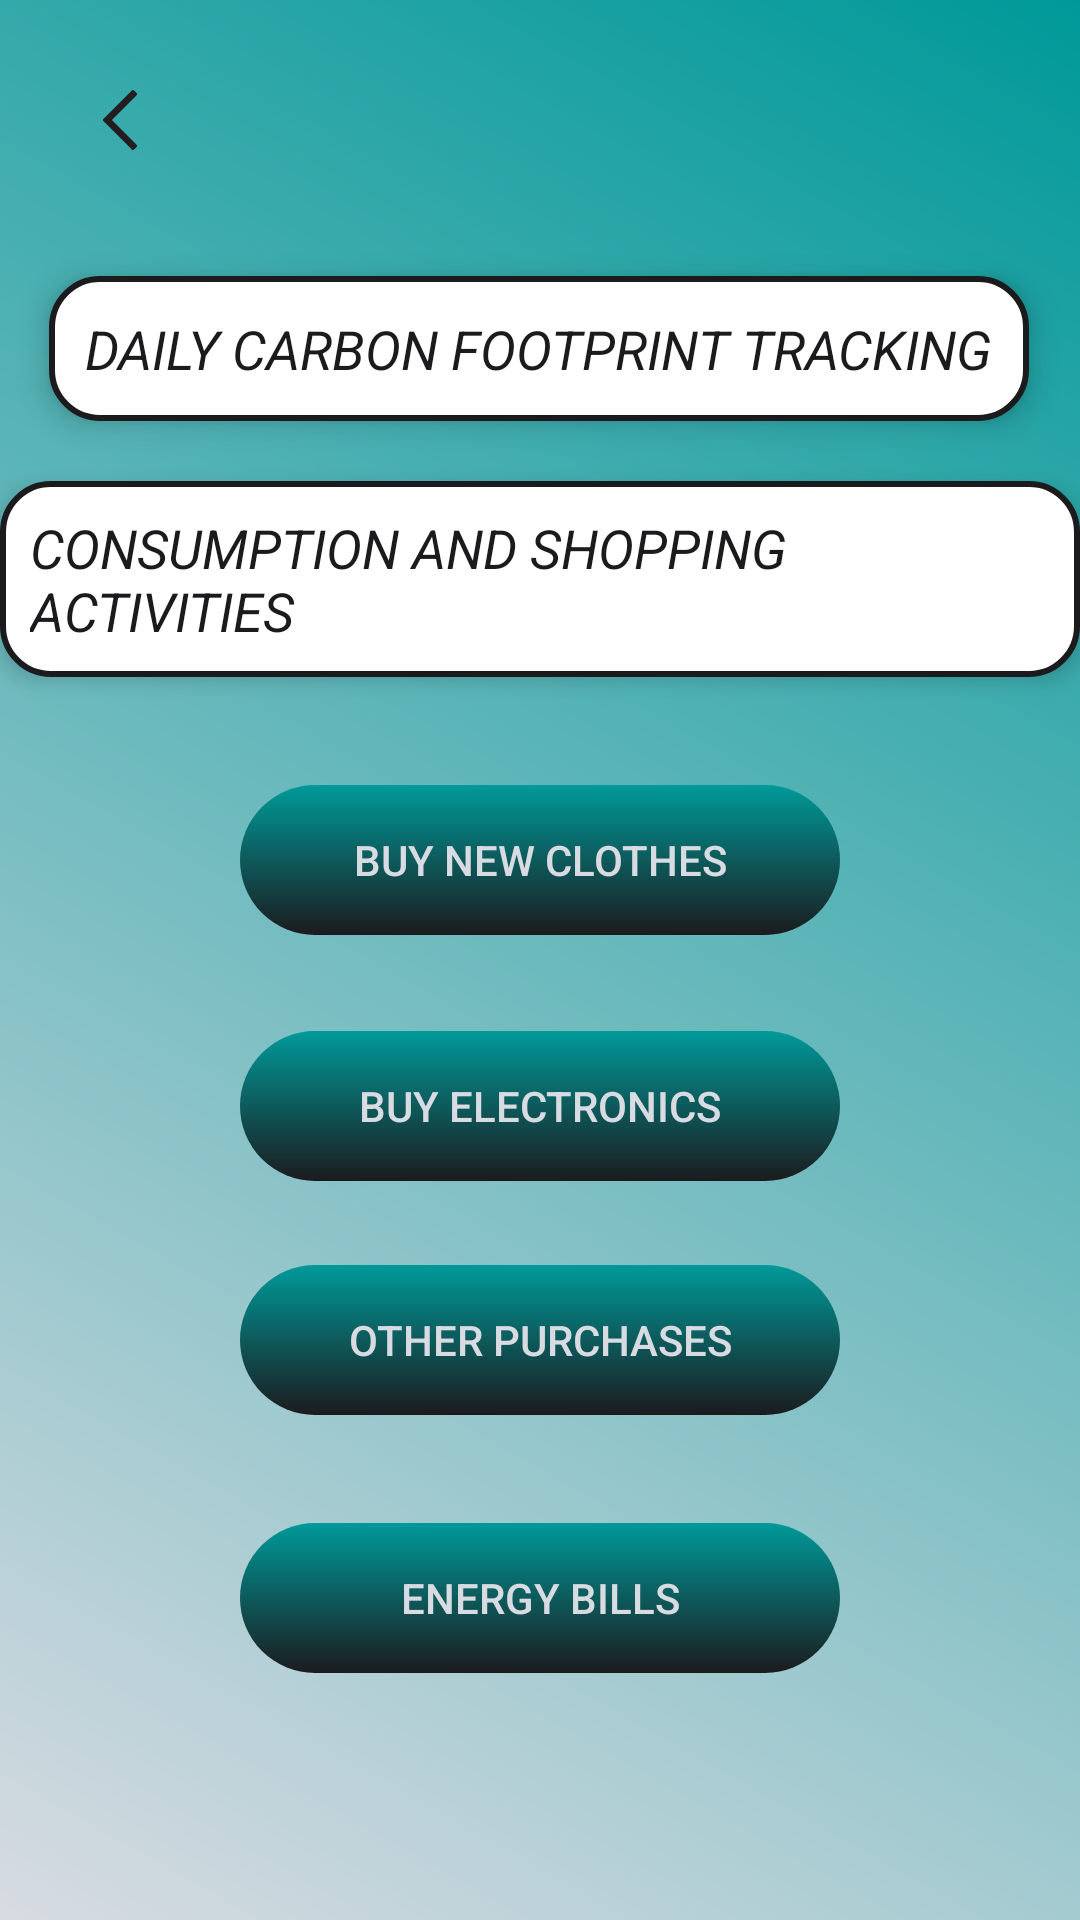

Icon bounding boxes for this 1080w x 1920h phone screenshot, format (x1, y1, x2, y2):
Back Button: (103, 90, 137, 150)
